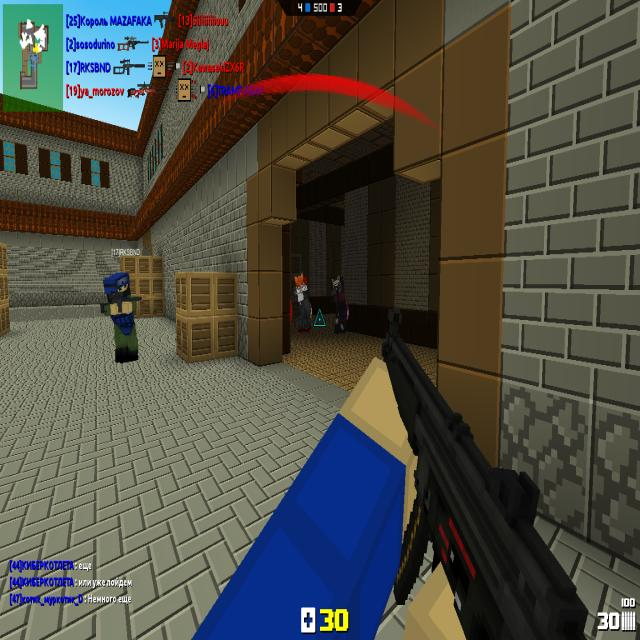enemy: (331, 276, 348, 334), (294, 276, 311, 334)
